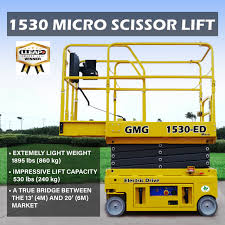Scissor Lift: (58, 41, 220, 218)
